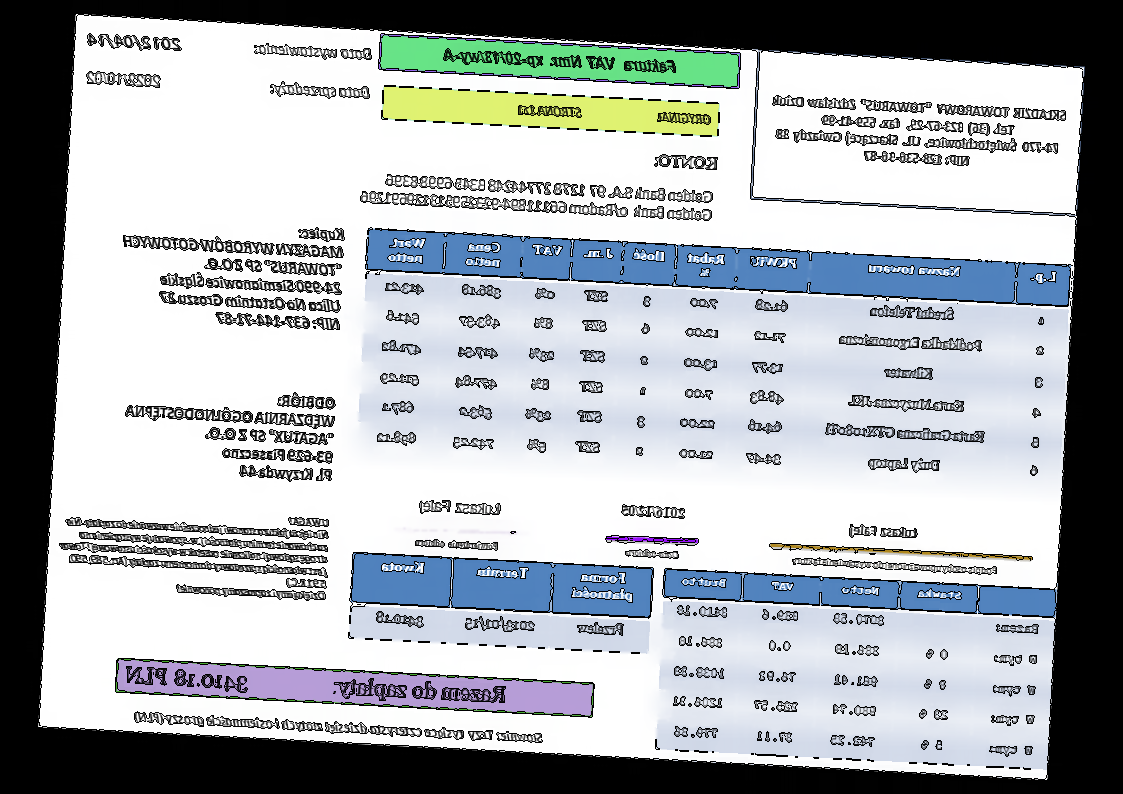Table: (355, 227, 1073, 491), (655, 569, 1057, 769), (346, 550, 655, 655)
TextBox: (55, 503, 331, 602), (116, 214, 346, 331), (766, 92, 1068, 174), (122, 382, 337, 484), (357, 170, 715, 223), (123, 664, 508, 707), (130, 709, 544, 745), (441, 45, 681, 78), (790, 553, 1000, 579), (515, 102, 714, 126), (252, 38, 373, 63), (267, 79, 371, 102), (86, 30, 184, 52), (419, 497, 503, 520), (84, 69, 163, 89), (620, 501, 688, 523), (847, 522, 920, 542), (653, 151, 719, 171), (414, 536, 499, 551), (624, 545, 681, 562)
